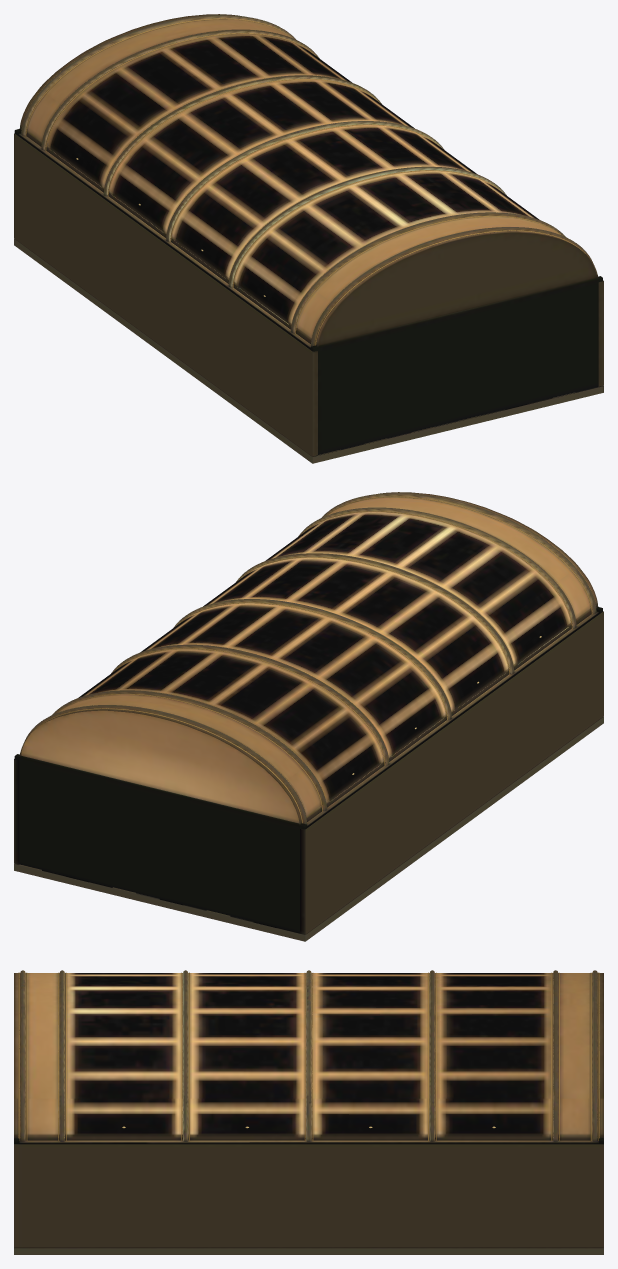
Rendered from ars-sonora.glb.
The picture shows the model from 3 angles, top to bottom: view 1: azimuth 30°, elevation 25°; view 2: azimuth 150°, elevation 25°; view 3: azimuth 270°, elevation 25°; orthographic projection.
Visible parts, largest first — view 1: Architecture · Ochre lime plaster, Architecture · Deep olive gallery velvet, Architecture · Pale limestone mouldings, Architecture · Warm carved travertine, Architecture · Antique gilded bronze; view 2: Architecture · Ochre lime plaster, Architecture · Deep olive gallery velvet, Architecture · Pale limestone mouldings, Architecture · Warm carved travertine, Architecture · Antique gilded bronze; view 3: Architecture · Ochre lime plaster, Architecture · Pale limestone mouldings, Architecture · Warm carved travertine, Architecture · Antique gilded bronze.
Part boxes in pixels (x1=…): Architecture · Ochre lime plaster: x1=14, y1=14, x2=603, y2=456; Architecture · Deep olive gallery velvet: x1=14, y1=129, x2=602, y2=454; Architecture · Pale limestone mouldings: x1=18, y1=15, x2=592, y2=455; Architecture · Warm carved travertine: x1=14, y1=238, x2=603, y2=463; Architecture · Antique gilded bronze: x1=23, y1=18, x2=585, y2=345; Architecture · Ochre lime plaster: x1=14, y1=492, x2=603, y2=934; Architecture · Deep olive gallery velvet: x1=14, y1=607, x2=602, y2=932; Architecture · Pale limestone mouldings: x1=19, y1=493, x2=598, y2=927; Architecture · Warm carved travertine: x1=14, y1=716, x2=603, y2=941; Architecture · Antique gilded bronze: x1=32, y1=496, x2=595, y2=823; Architecture · Ochre lime plaster: x1=14, y1=973, x2=603, y2=1247; Architecture · Pale limestone mouldings: x1=19, y1=970, x2=598, y2=1143; Architecture · Warm carved travertine: x1=14, y1=1248, x2=603, y2=1254; Architecture · Antique gilded bronze: x1=18, y1=972, x2=599, y2=1140.
Bounding box in the file's own units: 18.6 × 11.62 × 33.
19 materials, 16 textured.
